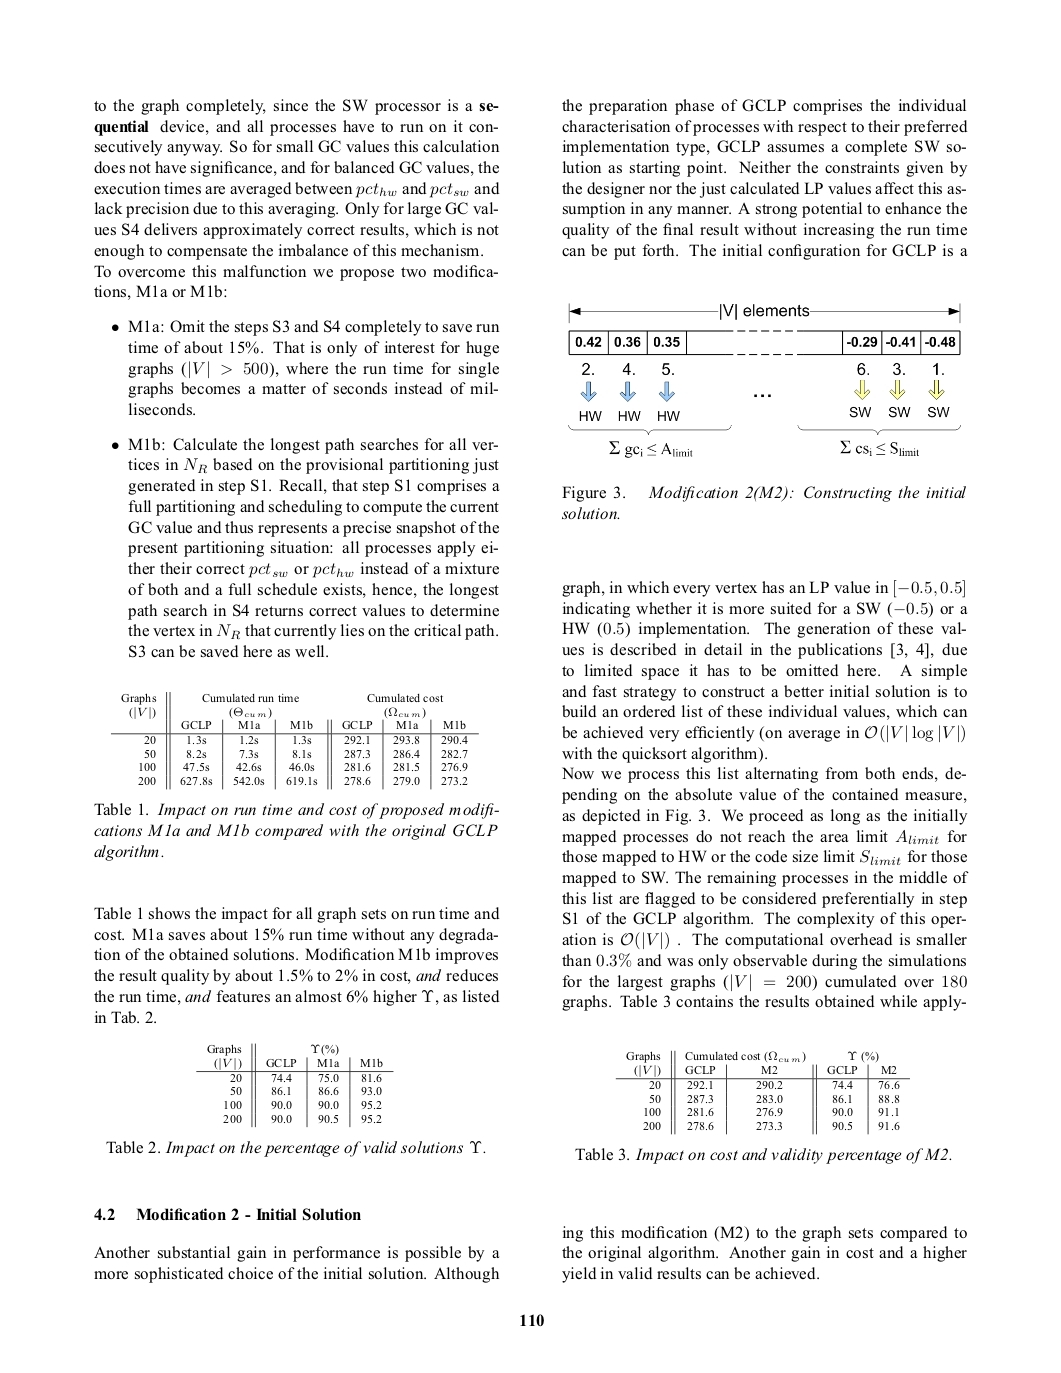Table: (111, 691, 478, 790), (615, 1049, 909, 1135), (196, 1042, 393, 1128)
figure: (568, 303, 960, 457)
